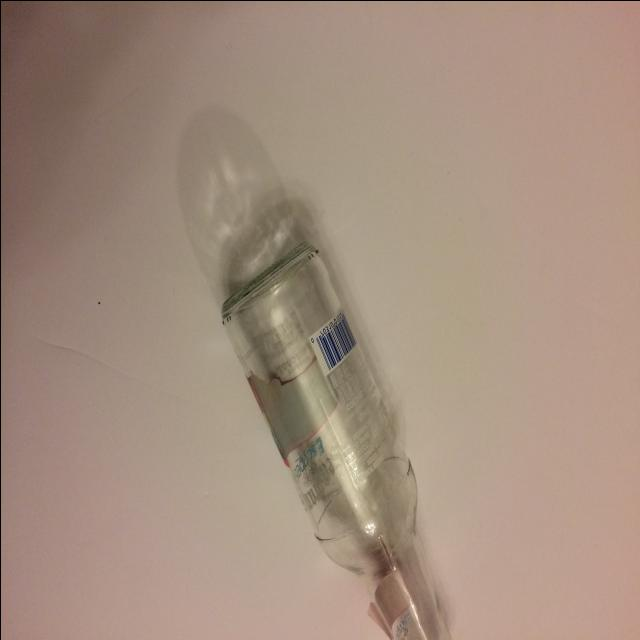glass: (217, 246, 449, 640)
